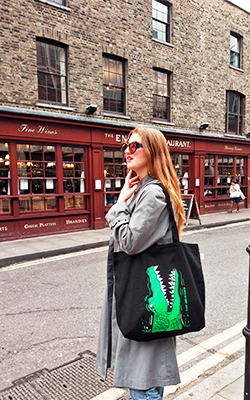Person: (99, 123, 202, 400)
